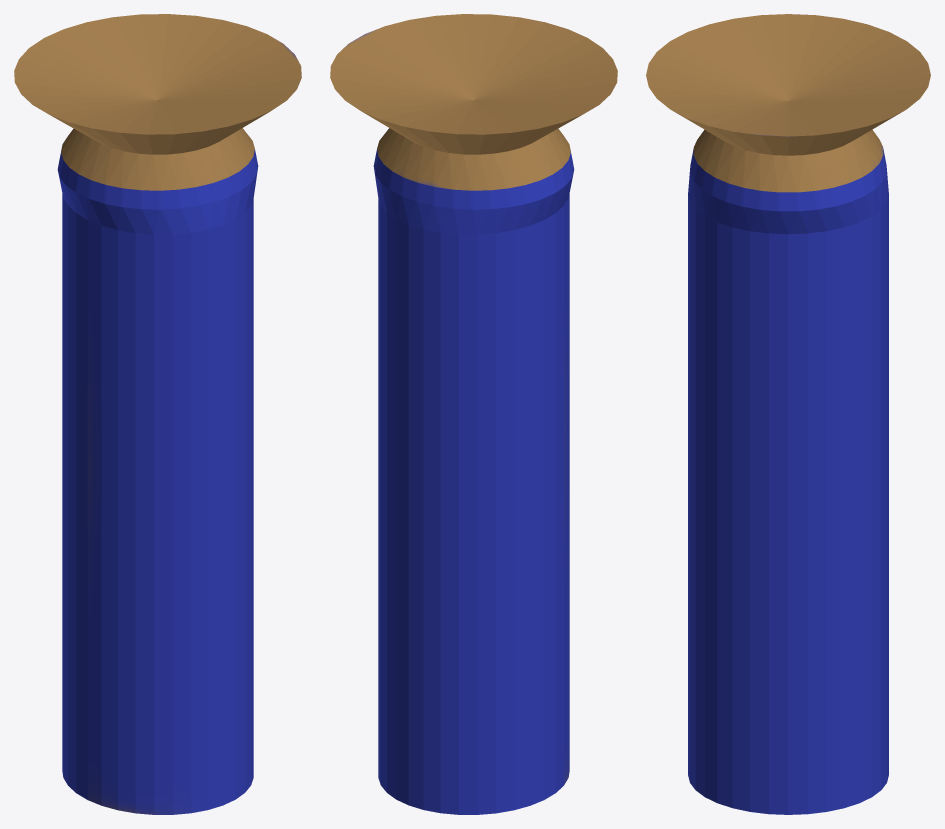
Rendered from NerfBullet.fbx.
3 renders of one model, left to right at view 1: azimuth 30°, elevation 25°; view 2: azimuth 150°, elevation 25°; view 3: azimuth 270°, elevation 25°, orthographic.
Parts seen in each view (by area): view 1: Cylinder.001; view 2: Cylinder.001; view 3: Cylinder.001.
Boxes of the visible parts, left/top/right/bottom form: Cylinder.001: left=14, top=14, right=301, bottom=814; Cylinder.001: left=330, top=14, right=617, bottom=814; Cylinder.001: left=646, top=14, right=930, bottom=814.
Size of the model in its own units: 307 by 818 by 302.
1 material, 1 textured.
